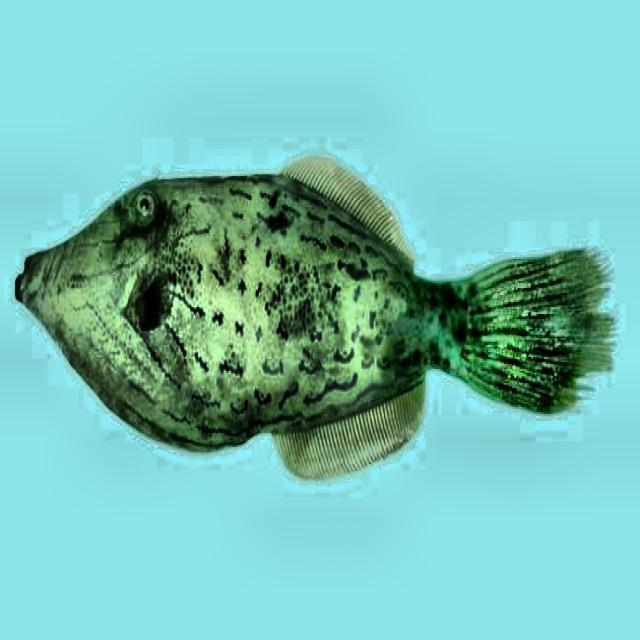fish: (15, 154, 618, 482)
